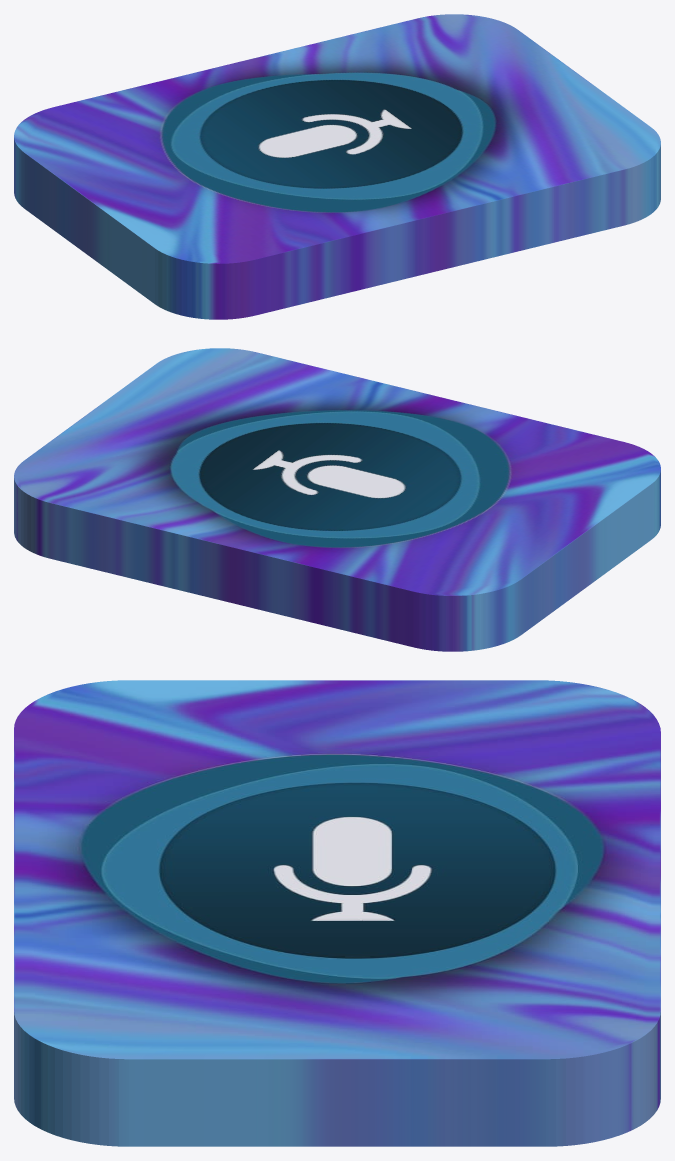
Rendered from js-assist.glb.
The picture shows the model from 3 angles, top to bottom: view 1: azimuth 30°, elevation 25°; view 2: azimuth 150°, elevation 25°; view 3: azimuth 270°, elevation 25°; orthographic projection. The views are drawn at different scales.
Parts seen in each view (by area): view 1: Plane; view 2: Plane; view 3: Plane.
Boxes of the visible parts, x1=… form: Plane: x1=14, y1=14, x2=660, y2=319; Plane: x1=14, y1=348, x2=660, y2=651; Plane: x1=14, y1=680, x2=660, y2=1146.
Size of the model in its own units: 3.9 by 0.4196 by 2.81.
Materials: 1 (1 with a texture image).
